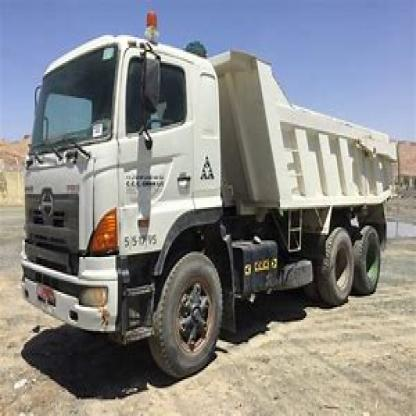dump_truck: (21, 24, 409, 375)
